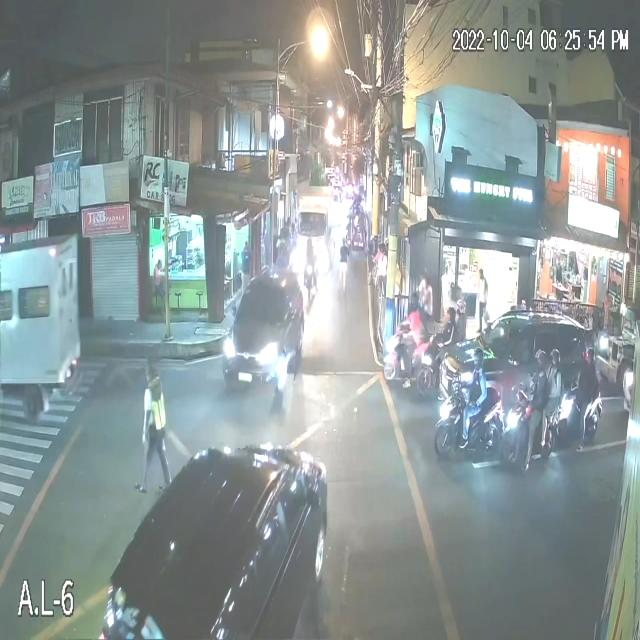Full-Faced: (546, 347, 560, 370), (407, 288, 420, 312), (471, 344, 483, 370), (534, 348, 546, 372), (443, 306, 457, 324), (454, 297, 467, 315)
